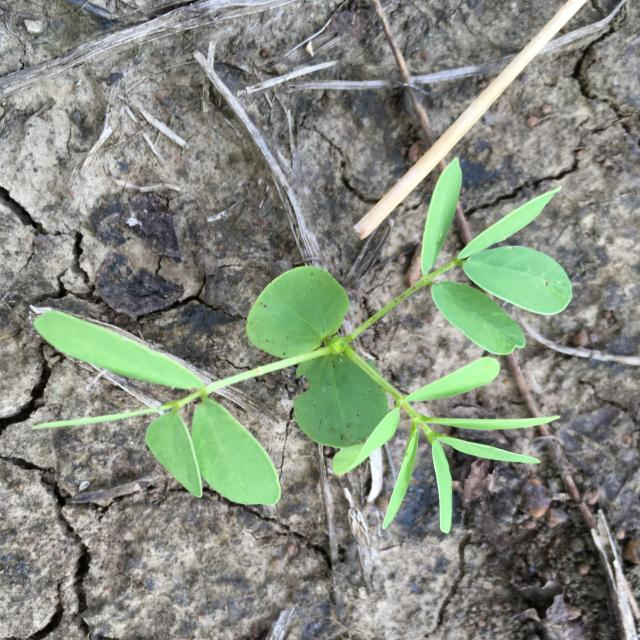Sicklepod: (33, 158, 573, 534)
